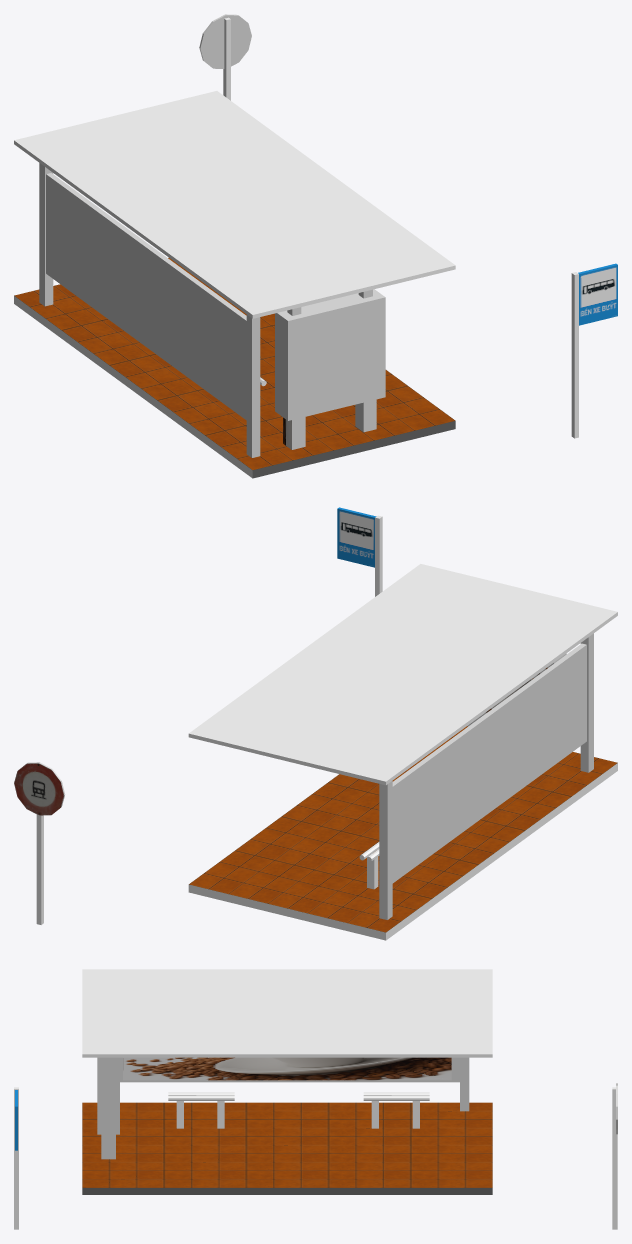
Rendered from benxeBus.fbx.
The picture shows the model from 3 angles, top to bottom: view 1: azimuth 30°, elevation 25°; view 2: azimuth 150°, elevation 25°; view 3: azimuth 270°, elevation 25°; orthographic projection. The views are drawn at different scales.
Parts seen in each view (by area): view 1: Cube.004, Cube, Cube.003, Cube.005, Cube.009, Cube.001, Cylinder, Cube.008, Cube.002; view 2: Cube.004, Cube, Cube.003, Cylinder, Cube.009, Cube.002, Cube.001, Cube.010, Cube.008; view 3: Cube.004, Cube, Cube.003, Cube.005, Cube.007, Cube.006, Cube.010, Cube.002, Cube.008.
Part boxes in pixels (left/top/right/bottom): Cube.004: left=14, top=91, right=455, bottom=318; Cube: left=14, top=258, right=455, bottom=478; Cube.003: left=46, top=173, right=246, bottom=420; Cube.005: left=275, top=289, right=385, bottom=449; Cube.009: left=578, top=263, right=617, bottom=325; Cube.001: left=246, top=315, right=260, bottom=457; Cylinder: left=199, top=14, right=251, bottom=68; Cube.008: left=571, top=272, right=578, bottom=438; Cube.002: left=39, top=163, right=53, bottom=306; Cube.004: left=188, top=564, right=617, bottom=785; Cube: left=188, top=726, right=617, bottom=940; Cube.003: left=392, top=643, right=586, bottom=883; Cylinder: left=14, top=762, right=64, bottom=815; Cube.009: left=337, top=507, right=376, bottom=567; Cube.002: left=379, top=781, right=392, bottom=919; Cube.001: left=580, top=633, right=593, bottom=772; Cube.010: left=36, top=814, right=43, bottom=924; Cube.008: left=375, top=515, right=382, bottom=596; Cube.004: left=82, top=969, right=492, bottom=1057; Cube: left=82, top=1102, right=492, bottom=1194; Cube.003: left=120, top=1057, right=459, bottom=1082; Cube.005: left=97, top=1057, right=119, bottom=1159; Cube.007: left=168, top=1092, right=234, bottom=1128; Cube.006: left=363, top=1092, right=429, bottom=1128; Cube.010: left=612, top=1087, right=617, bottom=1229; Cube.002: left=460, top=1057, right=469, bottom=1111; Cube.008: left=14, top=1087, right=18, bottom=1229.
Bounding box in the file's own units: 1264 × 617 × 2359.
Materials: 8 (4 with a texture image).
